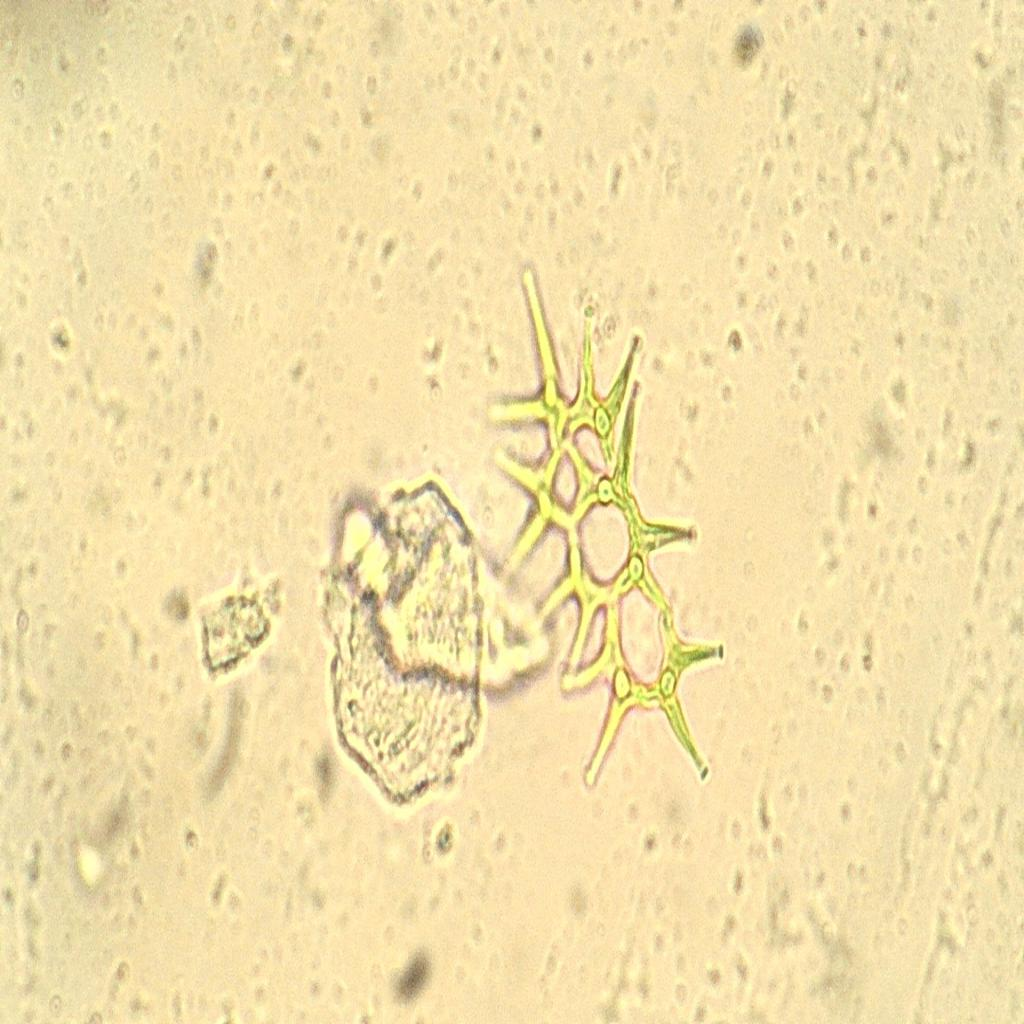Pediastrum_CFI: (467, 252, 743, 817)
